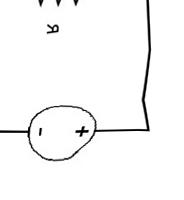Battery: (18, 96, 102, 169)
